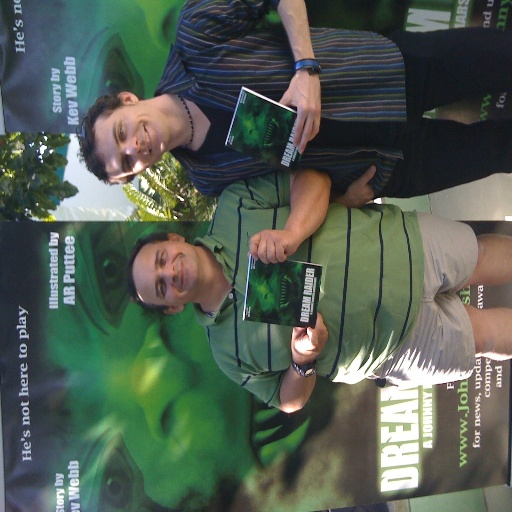hand: (285, 46, 322, 143), (290, 310, 329, 366), (246, 228, 296, 267), (340, 165, 376, 208)
